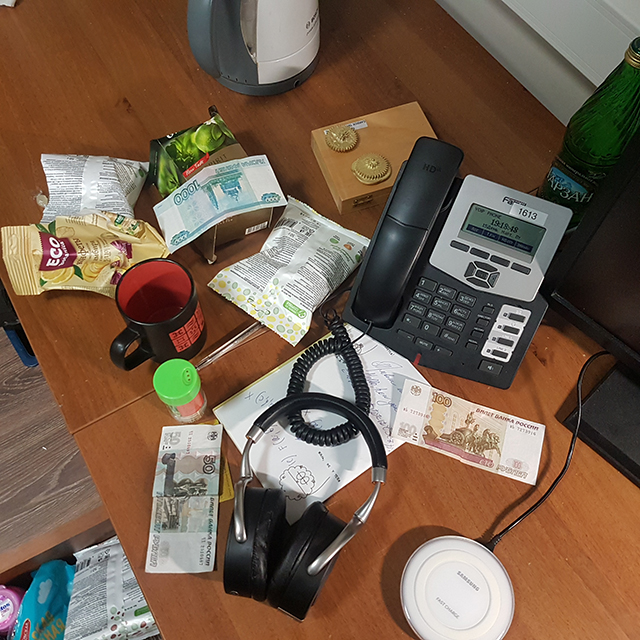banknotes: (392, 379, 547, 487), (152, 154, 286, 254), (146, 423, 223, 573)
